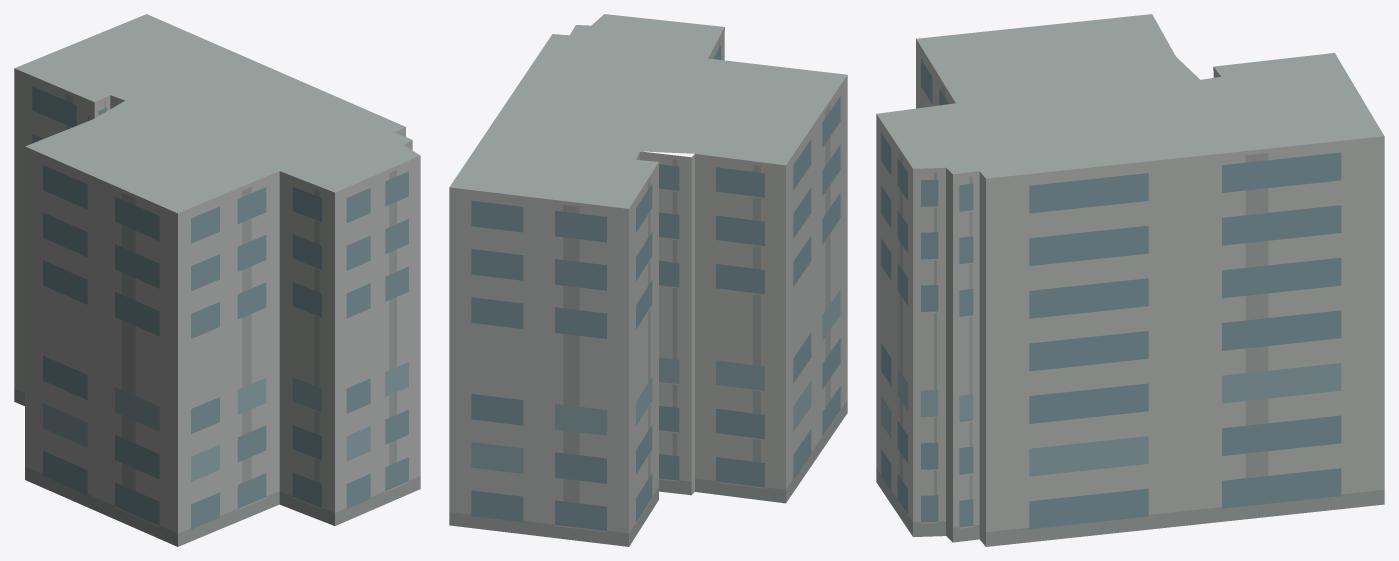
The model's file is survey-upis-32683425.glb.
3 renders of one model, left to right at view 1: azimuth 30°, elevation 25°; view 2: azimuth 150°, elevation 25°; view 3: azimuth 270°, elevation 25°, orthographic. The views are drawn at different scales.
Parts seen in each view (by area): view 1: survey-upis-32683425.tmp; view 2: survey-upis-32683425.tmp; view 3: survey-upis-32683425.tmp.
Part boxes in pixels (x1,y1,x2,y2): survey-upis-32683425.tmp: (14,14,420,546); survey-upis-32683425.tmp: (449,14,847,546); survey-upis-32683425.tmp: (876,14,1384,546).
Bounding box in the file's own units: 20.15 × 21 × 26.28.
